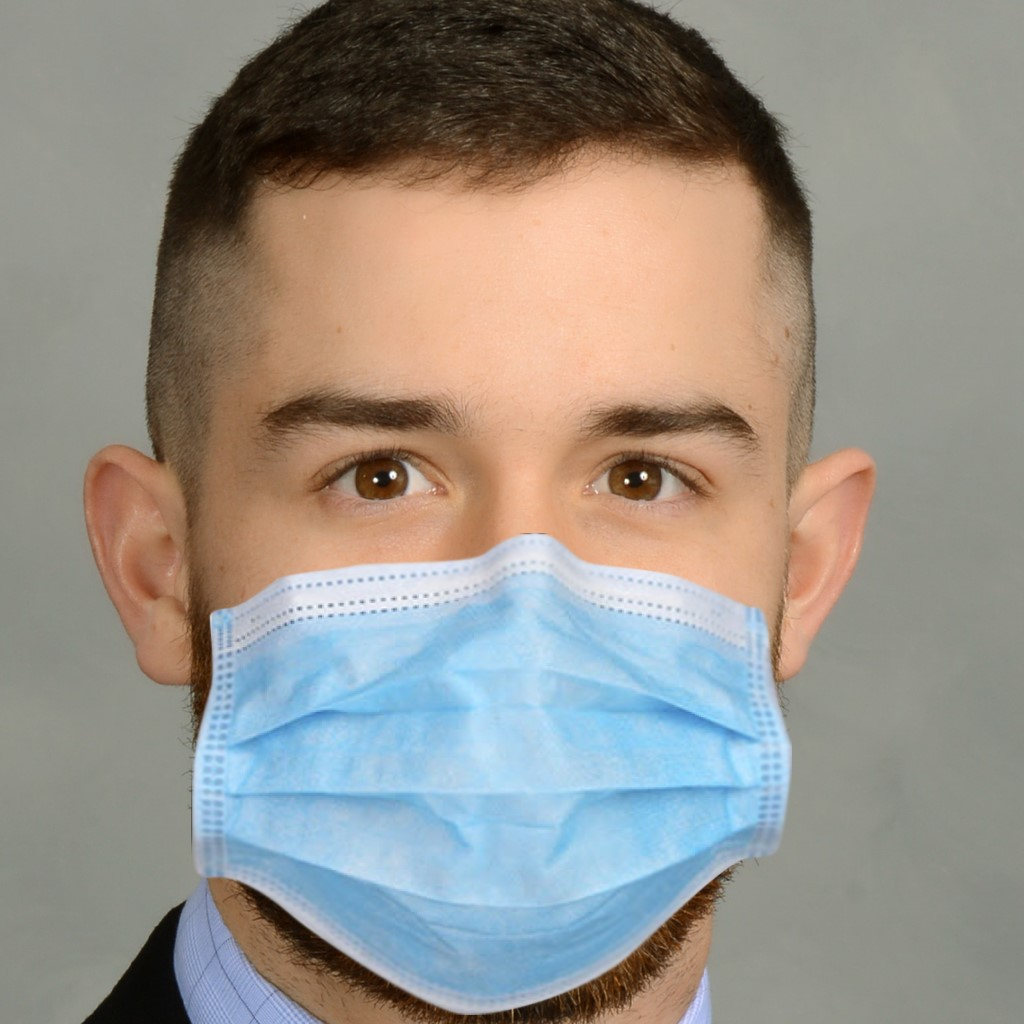con_mascara: (165, 144, 807, 1008)
